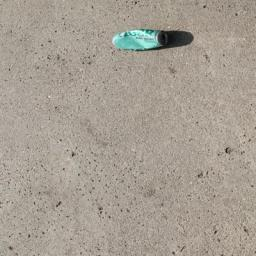FOD: (104, 24, 195, 54)
